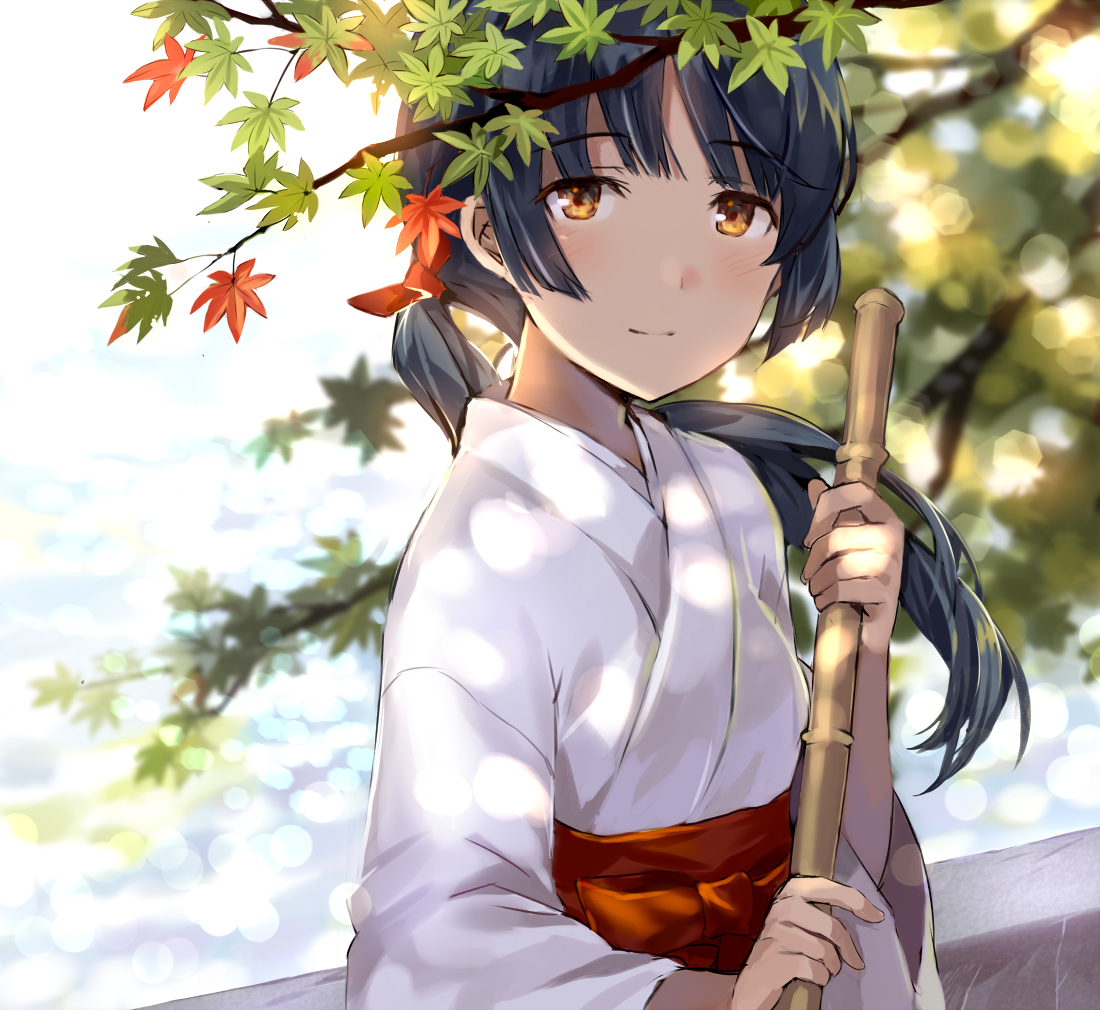纸片人正脸: (407, 26, 857, 414)
